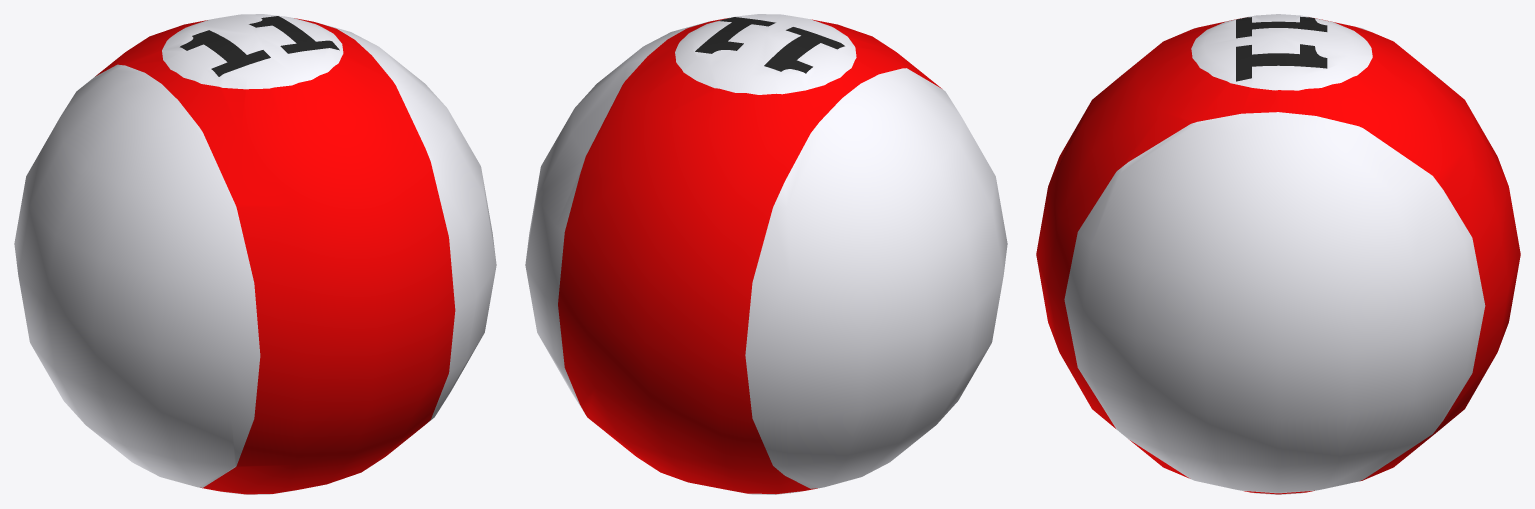
The model's file is 11ball.dae.
3 views of the same model, side by side, from view 1: azimuth 30°, elevation 25°; view 2: azimuth 150°, elevation 25°; view 3: azimuth 270°, elevation 25° (orthographic).
Visible parts, largest first — view 1: Billiard_Ball__11_Red_Striped (×6); view 2: Billiard_Ball__11_Red_Striped (×6); view 3: Billiard_Ball__11_Red_Striped (×5).
Part boxes in pixels (box(x1,y1,x2,y2)): Billiard_Ball__11_Red_Striped (×6): box(14, 14, 496, 494); Billiard_Ball__11_Red_Striped (×6): box(525, 14, 1007, 494); Billiard_Ball__11_Red_Striped (×5): box(1036, 14, 1520, 494).
Bounding box in the file's own units: 1.58 × 1.58 × 1.58.
